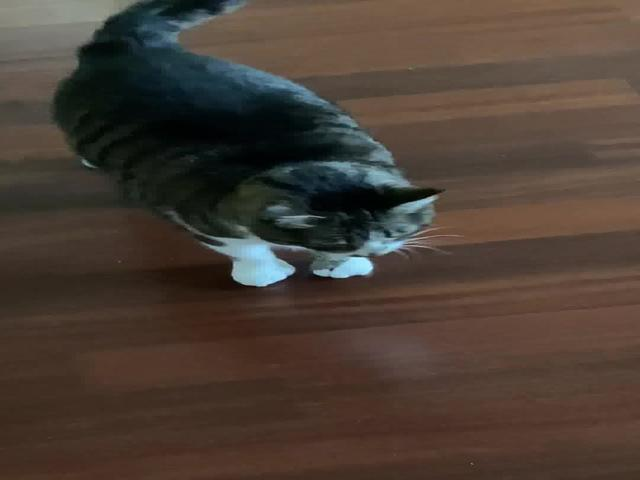playdoh: (52, 1, 442, 292)
